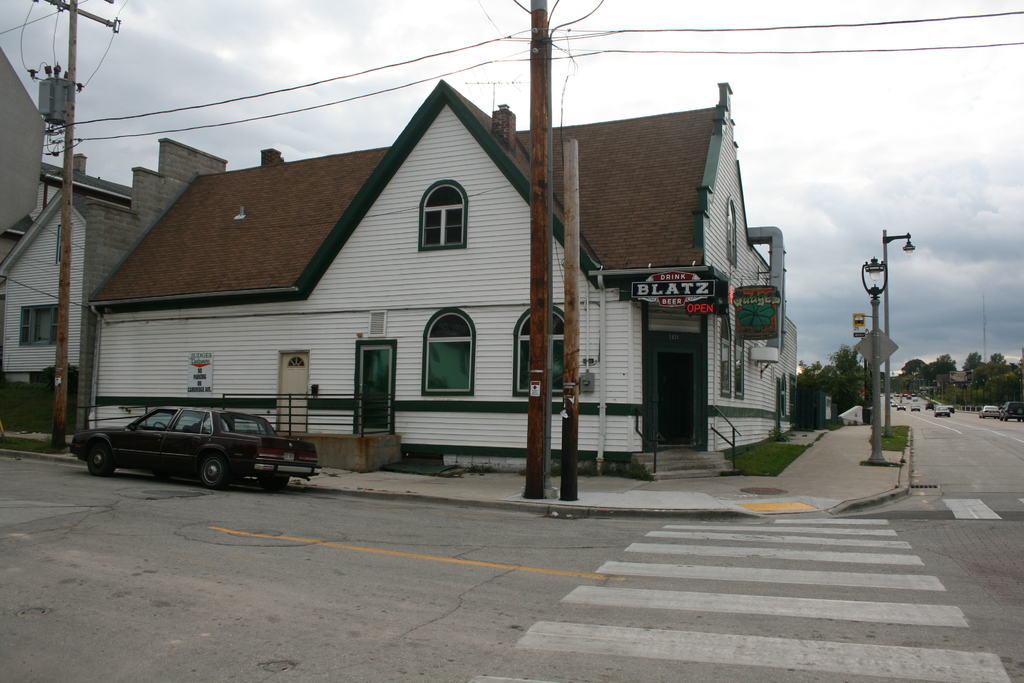Car: (77, 399, 315, 490), (1006, 401, 1020, 421), (979, 407, 999, 417), (936, 406, 952, 417)
